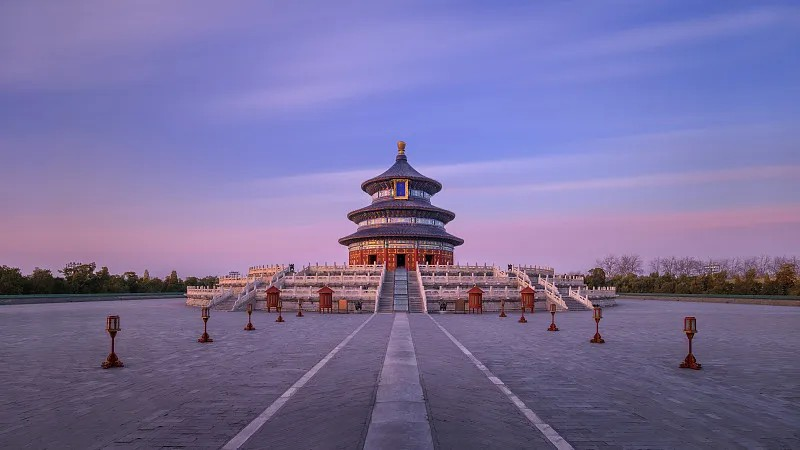Heaven: (336, 140, 467, 271)
